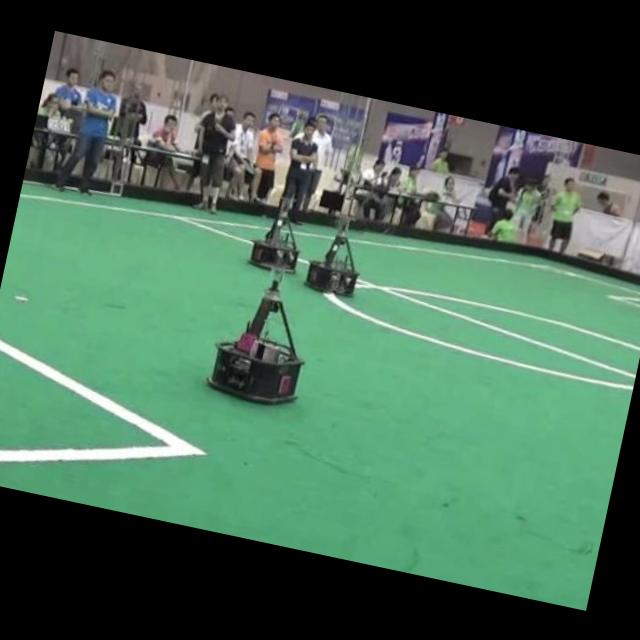robot: (208, 279, 302, 401), (305, 213, 358, 294), (250, 196, 299, 270)
